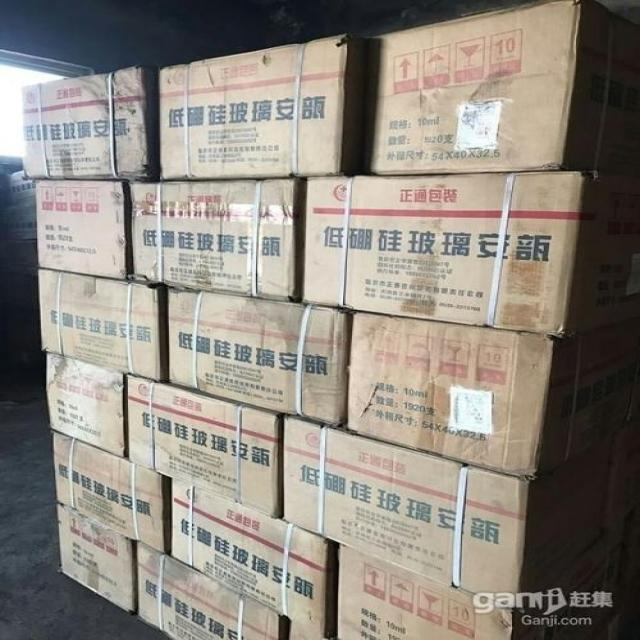box: (283, 415, 639, 611), (301, 169, 639, 336), (343, 312, 639, 480), (375, 0, 639, 173), (157, 34, 383, 180), (330, 543, 639, 639), (168, 476, 332, 636), (165, 288, 349, 427), (126, 373, 283, 520), (126, 179, 300, 301), (20, 66, 157, 181), (51, 432, 169, 557), (132, 543, 284, 638), (37, 268, 165, 380), (29, 179, 129, 282), (42, 352, 124, 460), (58, 504, 135, 609), (281, 618, 331, 639)
